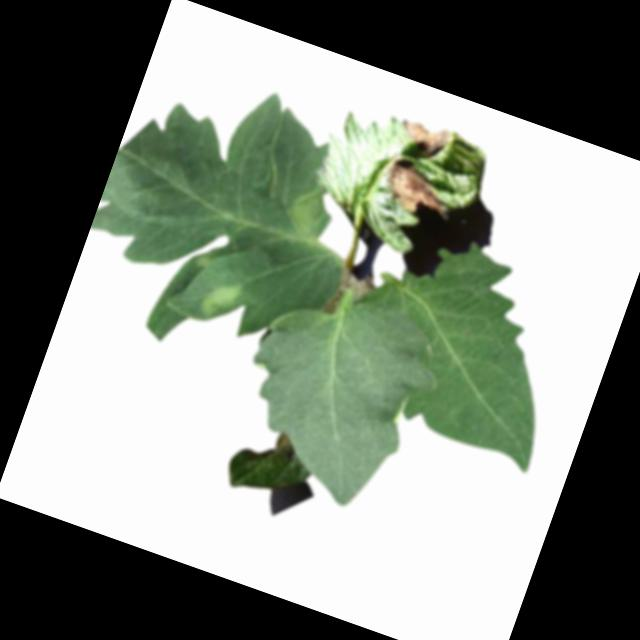Late_blight: (375, 155, 461, 228), (278, 180, 336, 252), (325, 267, 377, 327), (394, 113, 455, 163), (196, 272, 247, 330), (259, 428, 302, 466)
healthy: (333, 216, 594, 474), (216, 271, 455, 523)
